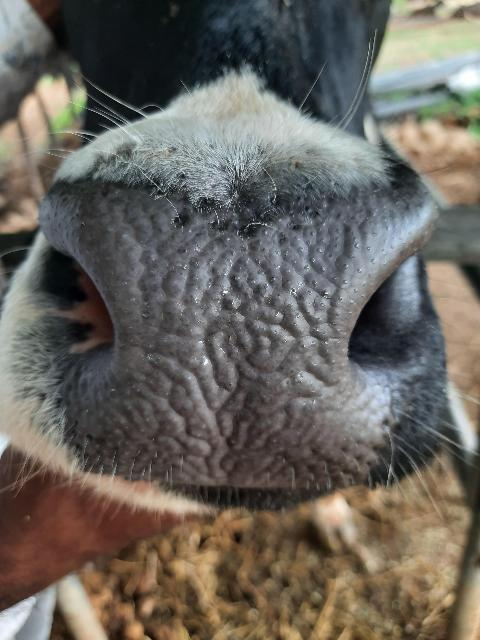Muzzle: (65, 183, 377, 474)
